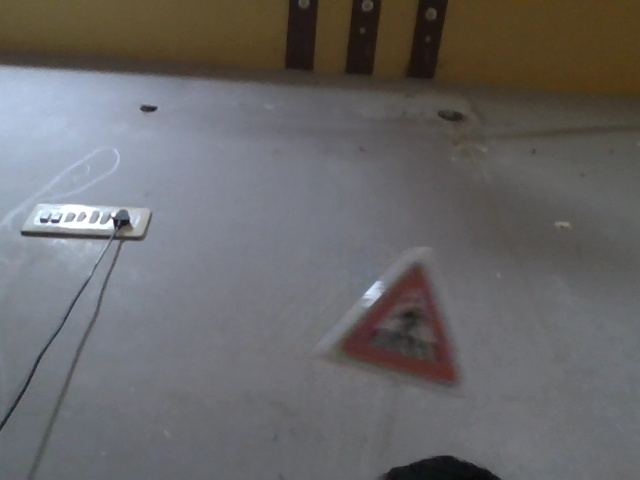crossing: (301, 253, 468, 381)
